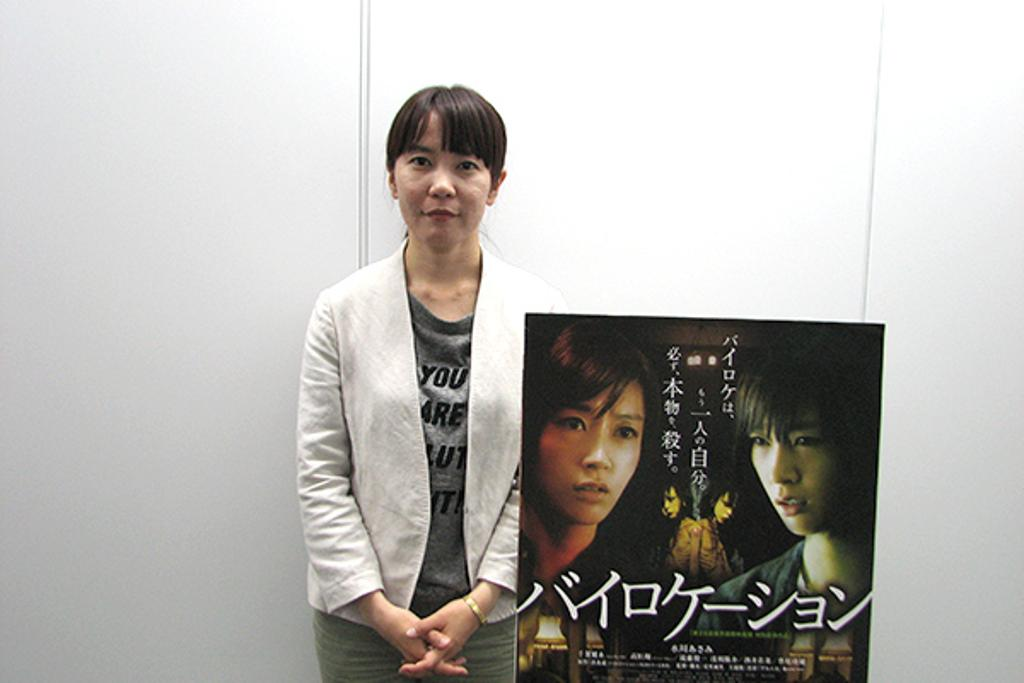face: (542, 368, 646, 512), (748, 392, 846, 532), (398, 122, 484, 236)
